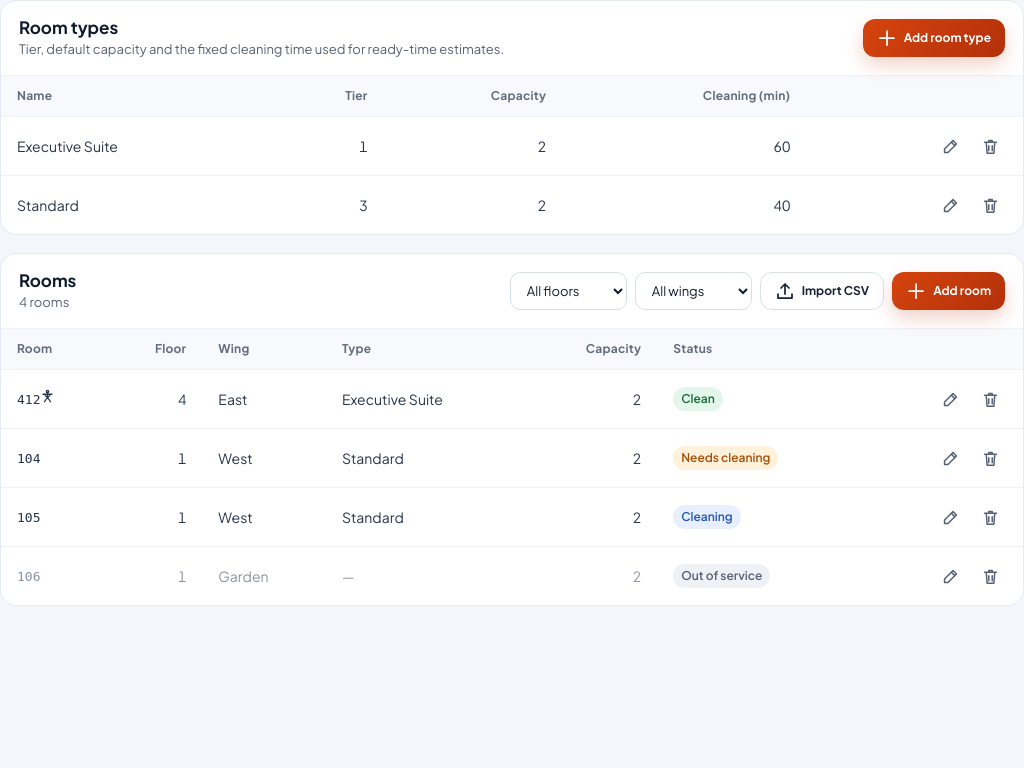
Test: RoomsTab › edits a room type starting from its saved values
This screenshot has width=1024, height=768.
Expected: the text "4 rooms" is shown, [19,292,76,312]
Step 1. Click the button named "Edit Standard" → (950, 205), box [933,188,967,222]
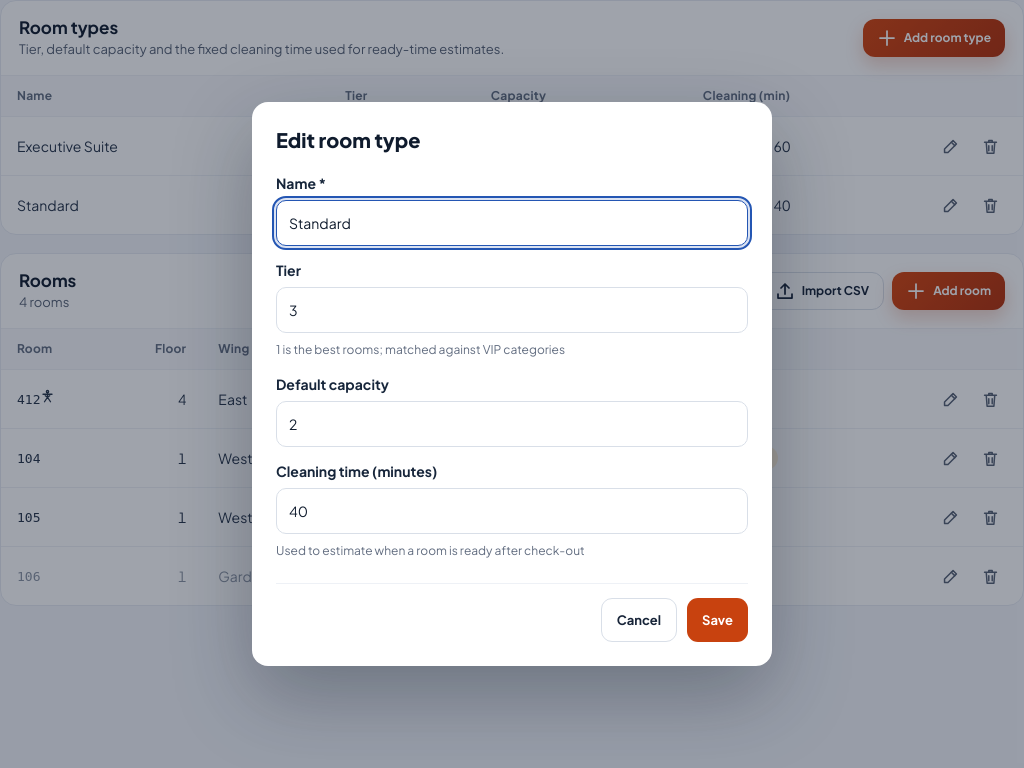
Result: the field labelled "Name *" holds "Standard" at [276,200,748,246]
Step 2. Replace the text in the number field labelled "Tier 1 is the best rooms; matched against VIP categories" with "2" → (512, 310), box [276,287,748,333]
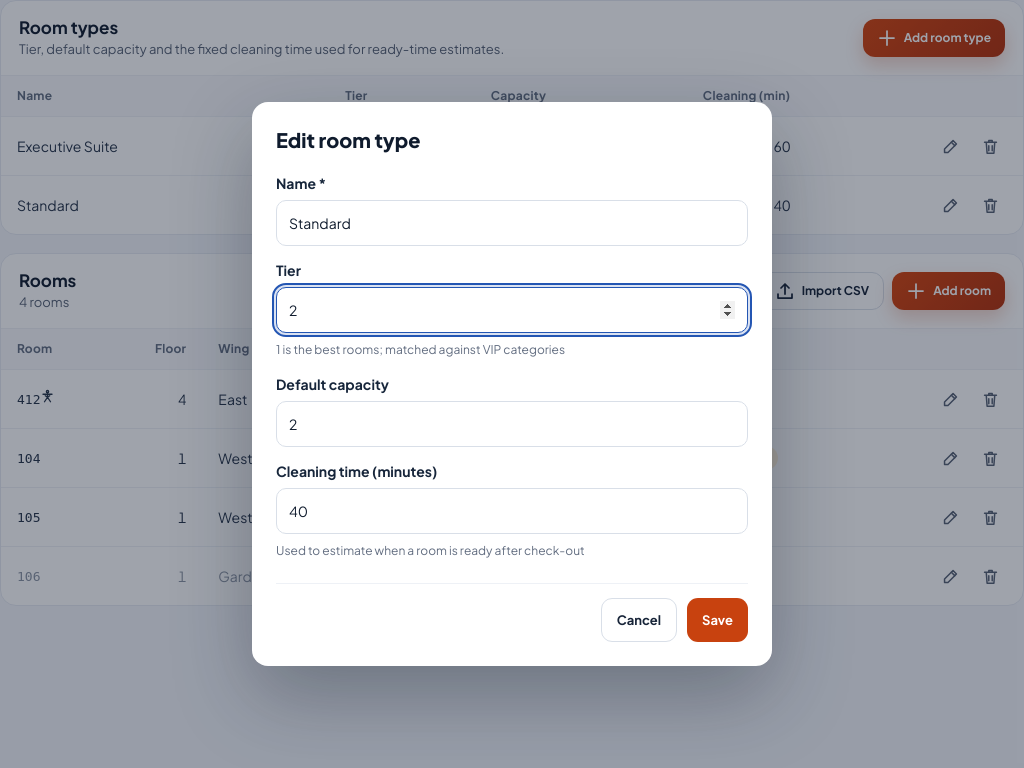
Step 3. Replace the text in the number field labelled "Default capacity" with "3" → (512, 424), box [276,401,748,447]
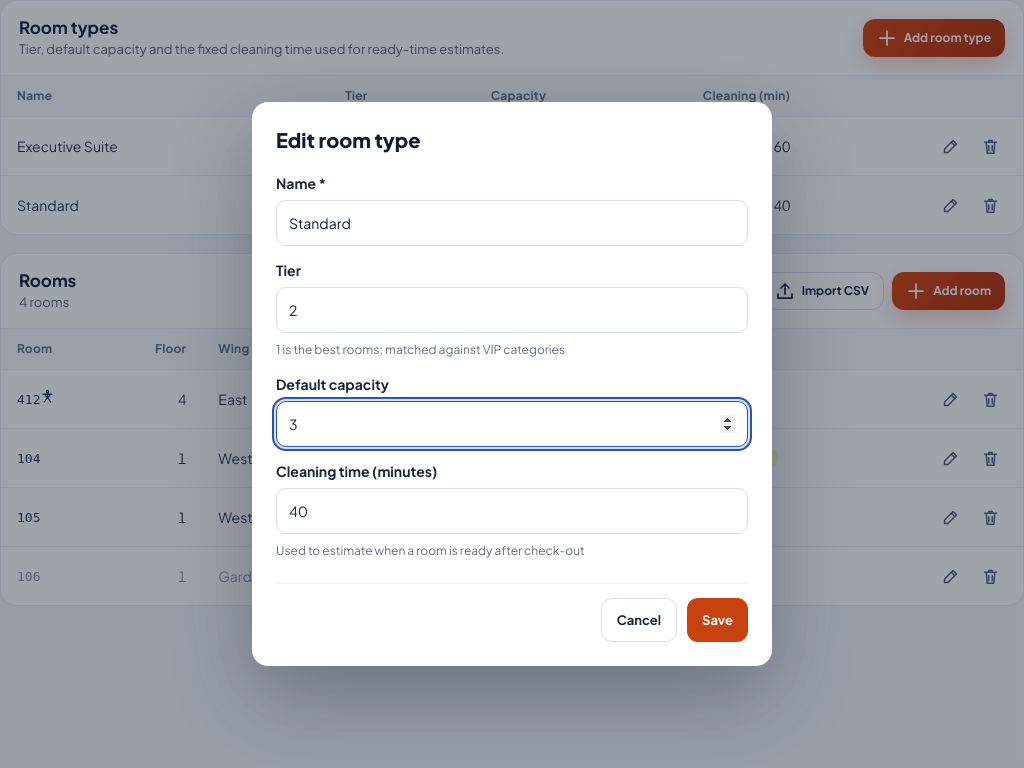
Step 4. Click the button "Save" → (718, 620), box [687,598,748,642]
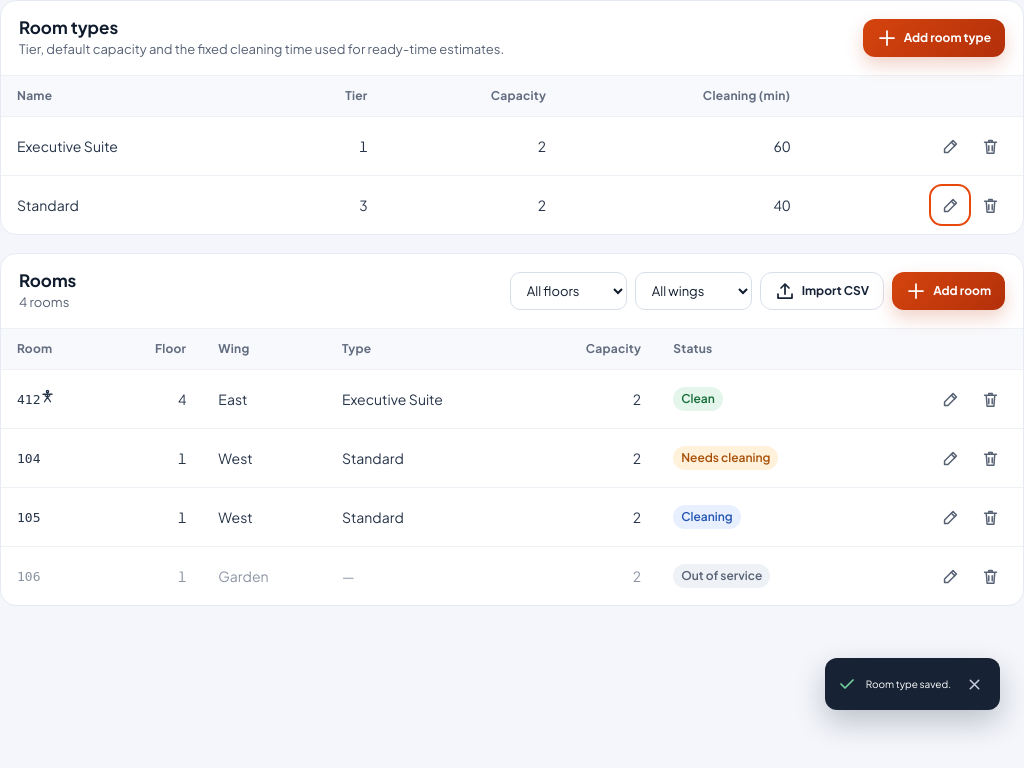
Result: the text "Room type saved." is shown at [866,674,951,694]
